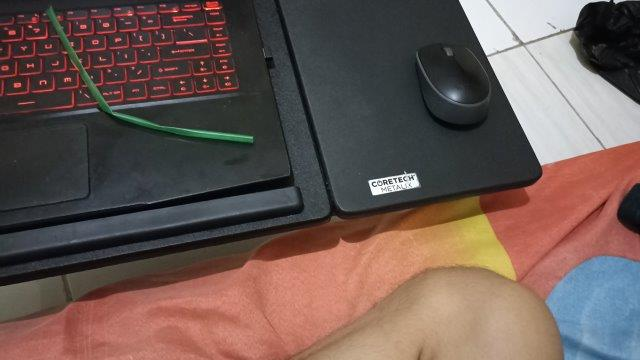sedotan: (47, 7, 252, 142)
